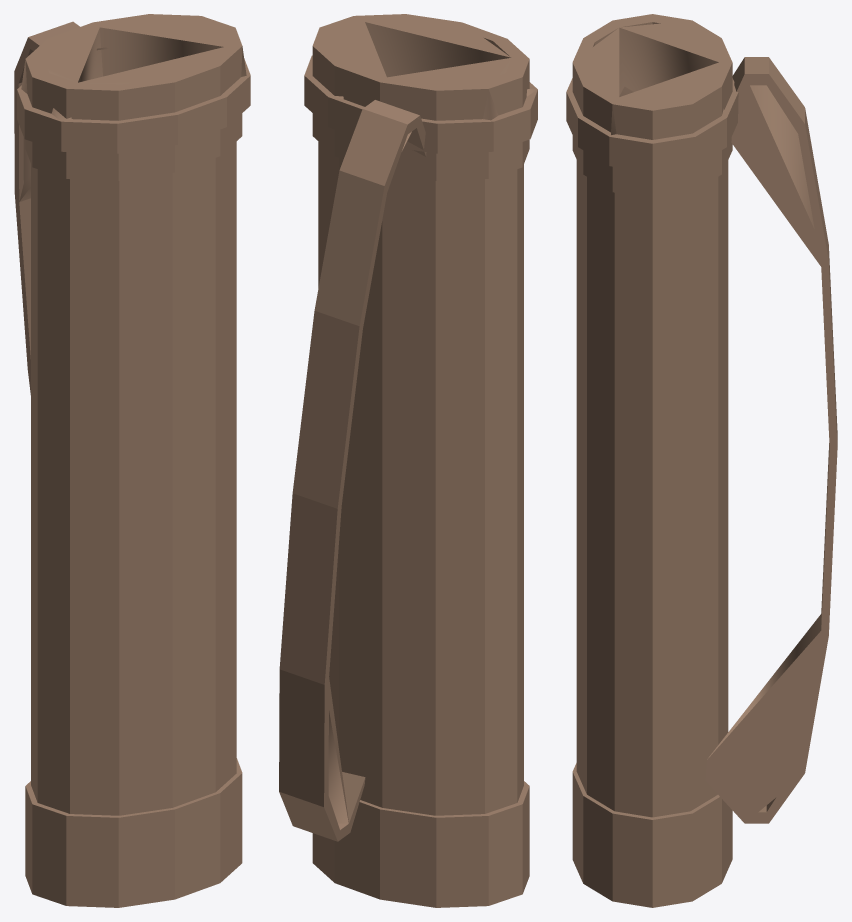
The model's file is item_quiver.glb.
3 views of the same model, side by side, from view 1: azimuth 30°, elevation 25°; view 2: azimuth 150°, elevation 25°; view 3: azimuth 270°, elevation 25° (orthographic). The views are drawn at different scales.
Parts seen in each view (by area): view 1: Quiver; view 2: Quiver; view 3: Quiver.
Boxes of the visible parts, x1=… form: Quiver: x1=14, y1=14, x2=250, y2=907; Quiver: x1=279, y1=14, x2=537, y2=907; Quiver: x1=566, y1=14, x2=837, y2=907.
Bounding box in the file's own units: 0.1273 × 0.4542 × 0.14.
